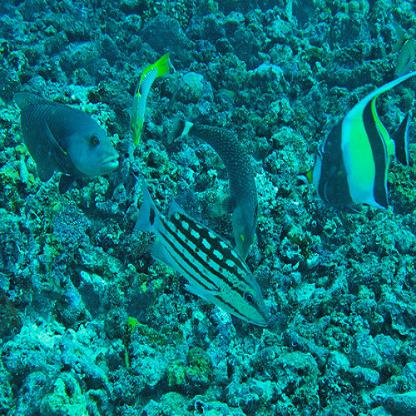Labridae -Wrasse-: (170, 111, 264, 265)
Lutjanidae -Snappers-: (131, 174, 273, 333)
Zanclidae -Moorish Idol-: (307, 65, 415, 214)
